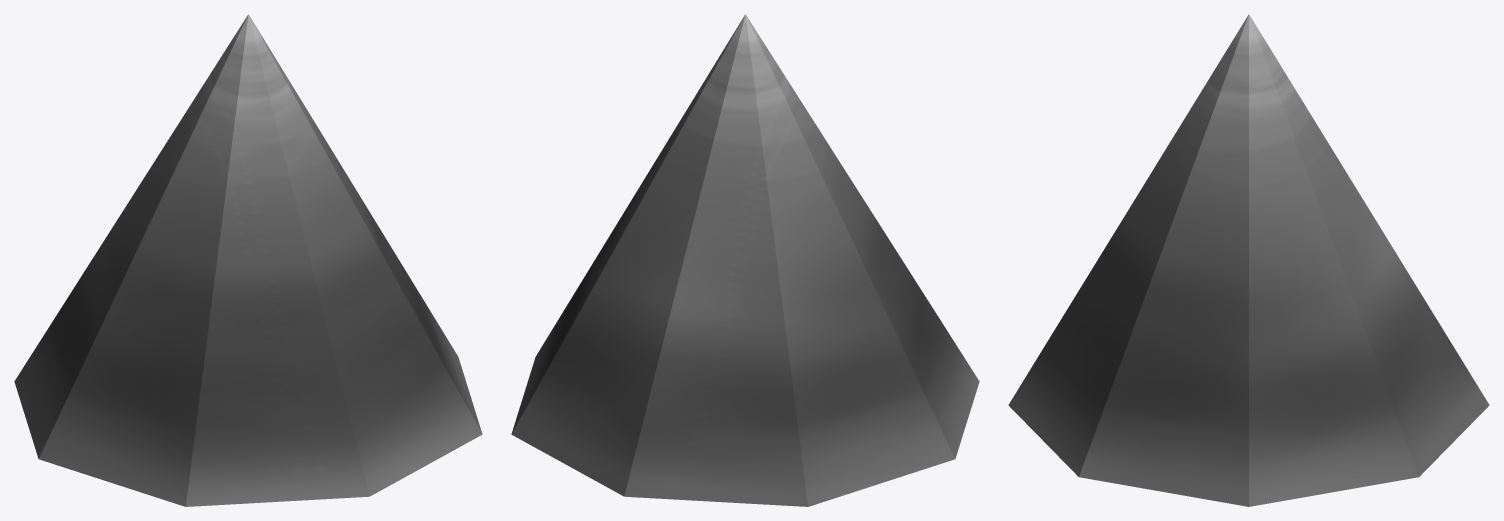
File: OneBigSpike (1).fbx
3 renders of one model, left to right at view 1: azimuth 30°, elevation 25°; view 2: azimuth 150°, elevation 25°; view 3: azimuth 270°, elevation 25°, orthographic.
Parts seen in each view (by area): view 1: polySurface23; view 2: polySurface23; view 3: polySurface23.
Boxes of the visible parts, x1,y1,x2,y2 form: polySurface23: (14,14,482,506); polySurface23: (511,14,979,506); polySurface23: (1008,14,1489,506).
Bounding box in the file's own units: 40.87 × 36.66 × 40.87.
